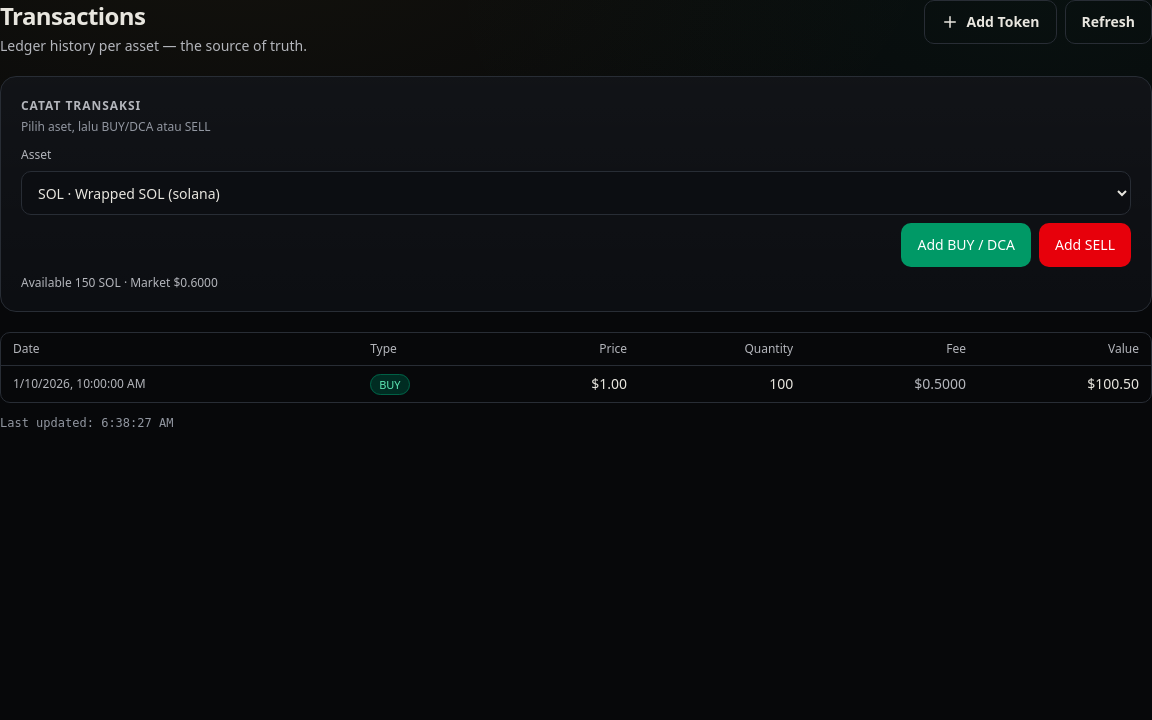
TransactionsPage › shows Add Token entry points and opens the modal
Expected: the text "BUY" is shown, [370,374,410,395]
Click the button "Add Token": (990, 22) [924,0,1057,44]
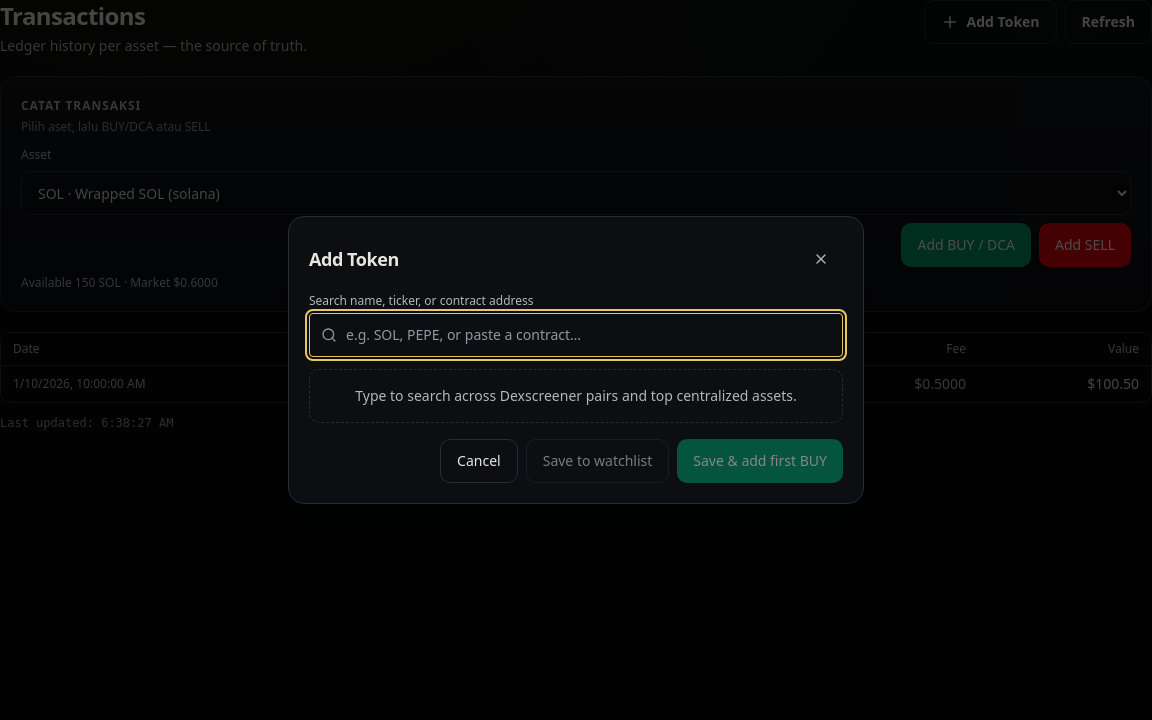
Result: the dialog "Add Token" is shown
